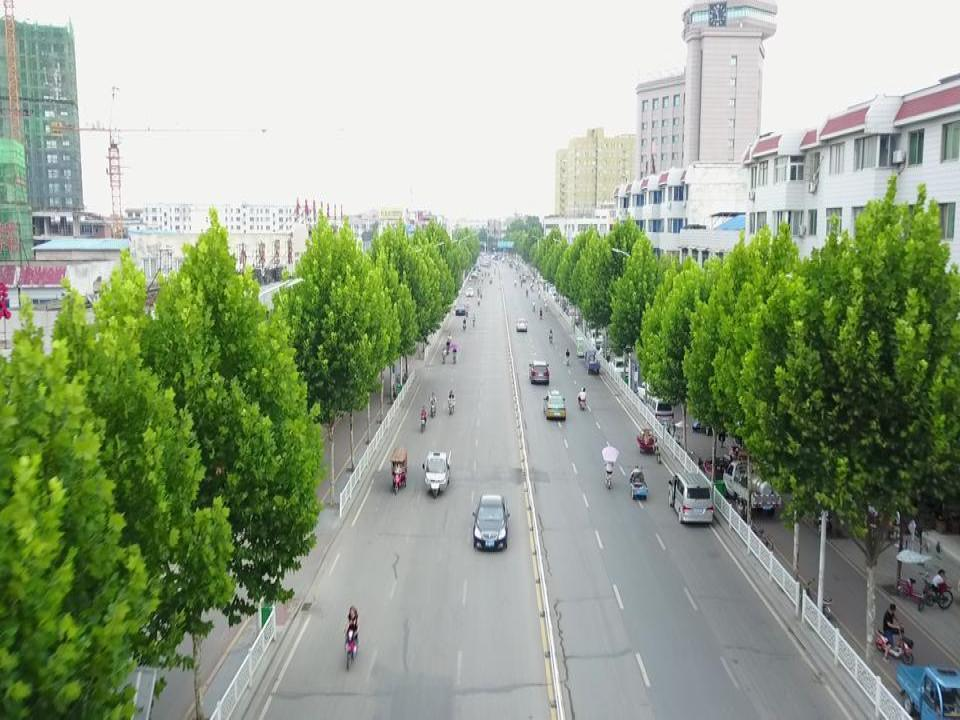car: (472, 492, 511, 552), (542, 390, 566, 419), (607, 356, 633, 381), (528, 359, 550, 385), (515, 319, 528, 332), (454, 301, 466, 315), (465, 287, 475, 297)
truck: (895, 664, 959, 720), (722, 459, 781, 517)
van: (667, 472, 714, 524), (647, 392, 674, 431), (586, 326, 605, 350), (566, 304, 579, 327)
